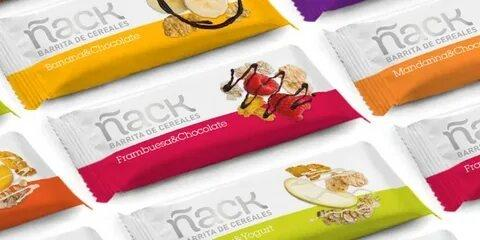snack: (45, 39, 373, 206)
